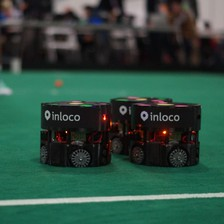ball: (53, 78, 64, 89)
robot: (35, 98, 115, 169), (128, 100, 204, 169), (108, 93, 136, 159)
